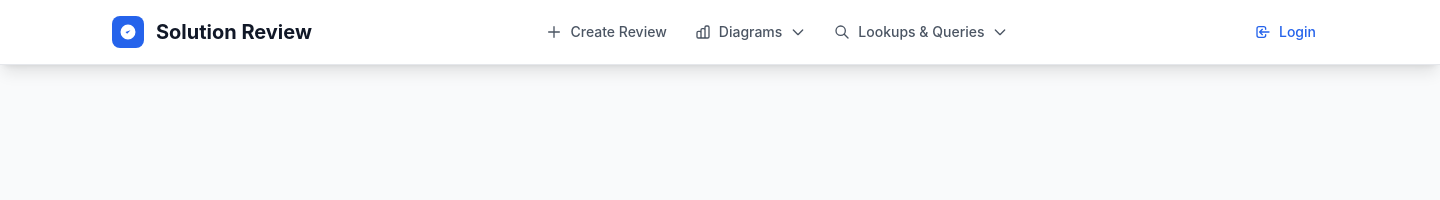
Navbar › Diagram Dropdown › closes dropdown after selecting an option
The image size is (1440, 200).
Click the button "Diagrams": (751, 32) 683,14 -> 818,50
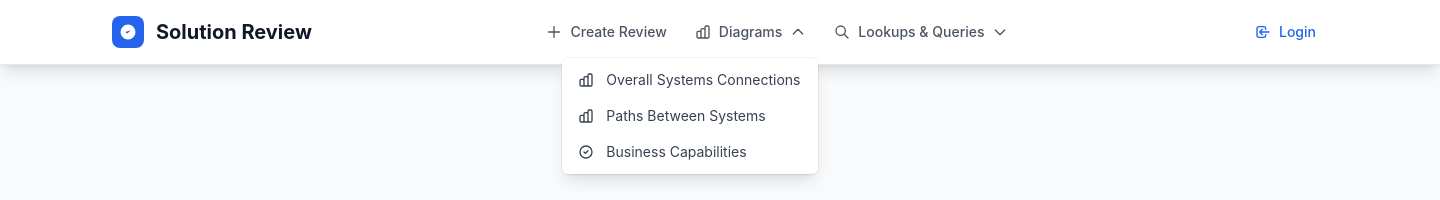
Click the button "Paths Between Systems": (690, 116) 562,98 -> 818,134
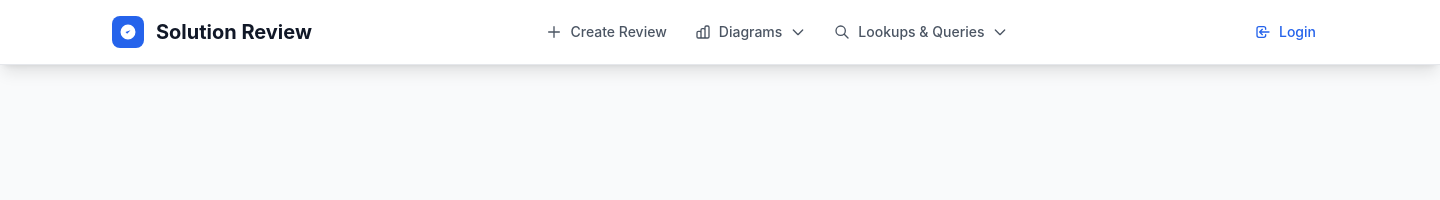
Check: the element with class "mt-2" is gone
